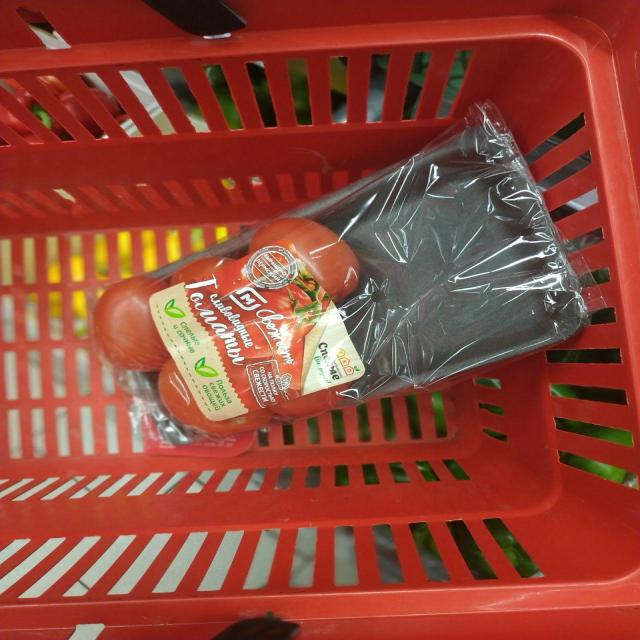Tomatoes: (250, 218, 360, 301), (158, 358, 273, 436), (93, 276, 170, 371), (270, 383, 348, 419), (170, 258, 235, 286)
